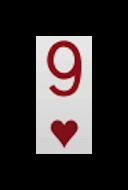9H: (40, 39, 85, 150)
